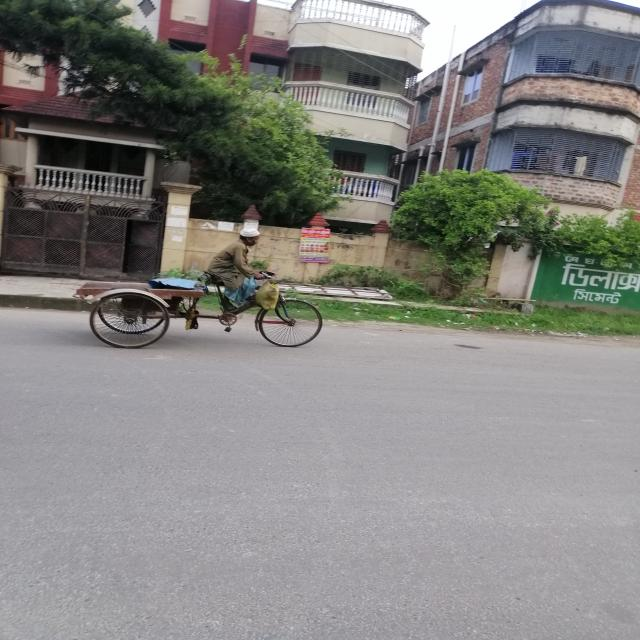Van: (73, 264, 328, 360)
